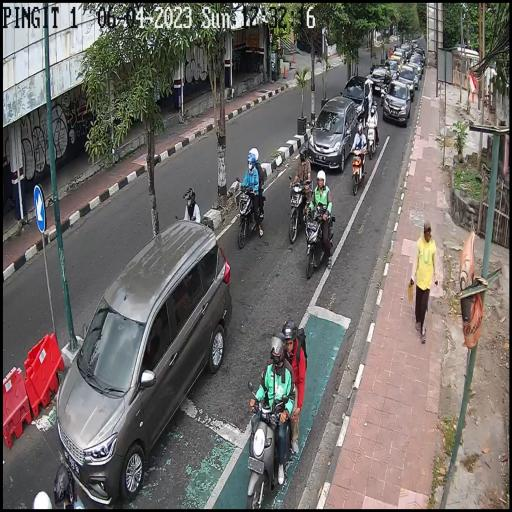mobil: (58, 231, 231, 505), (308, 95, 357, 172), (341, 72, 372, 121), (385, 77, 412, 128), (372, 64, 390, 95), (400, 65, 415, 101), (386, 58, 397, 80)
motor: (246, 382, 293, 508), (304, 198, 336, 286), (236, 179, 266, 244), (288, 176, 313, 244), (350, 148, 367, 194), (366, 122, 377, 158), (380, 84, 386, 108)
